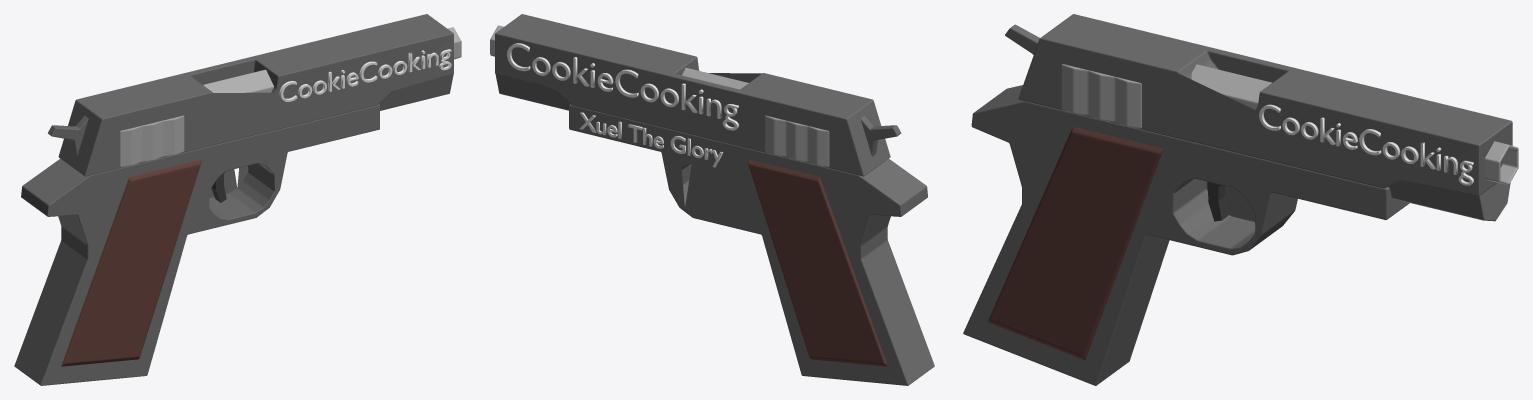
The model's file is Objetos_TesteAlpha.fbx.
The picture shows the model from 3 angles, left to right: view 1: azimuth 30°, elevation 25°; view 2: azimuth 150°, elevation 25°; view 3: azimuth 330°, elevation 25°; orthographic projection. The views are drawn at different scales.
Visible parts, largest first — view 1: Cubo.002; view 2: Cubo.002; view 3: Cubo.002, Gatillo.001.
Boxes of the visible parts, <box> form: Cubo.002: <box>14,14,461,385</box>; Cubo.002: <box>490,14,934,385</box>; Cubo.002: <box>963,14,1518,385</box>; Gatillo.001: <box>1207,182,1228,221</box>.
Bounding box in the file's own units: 251 × 151 × 30.71.
